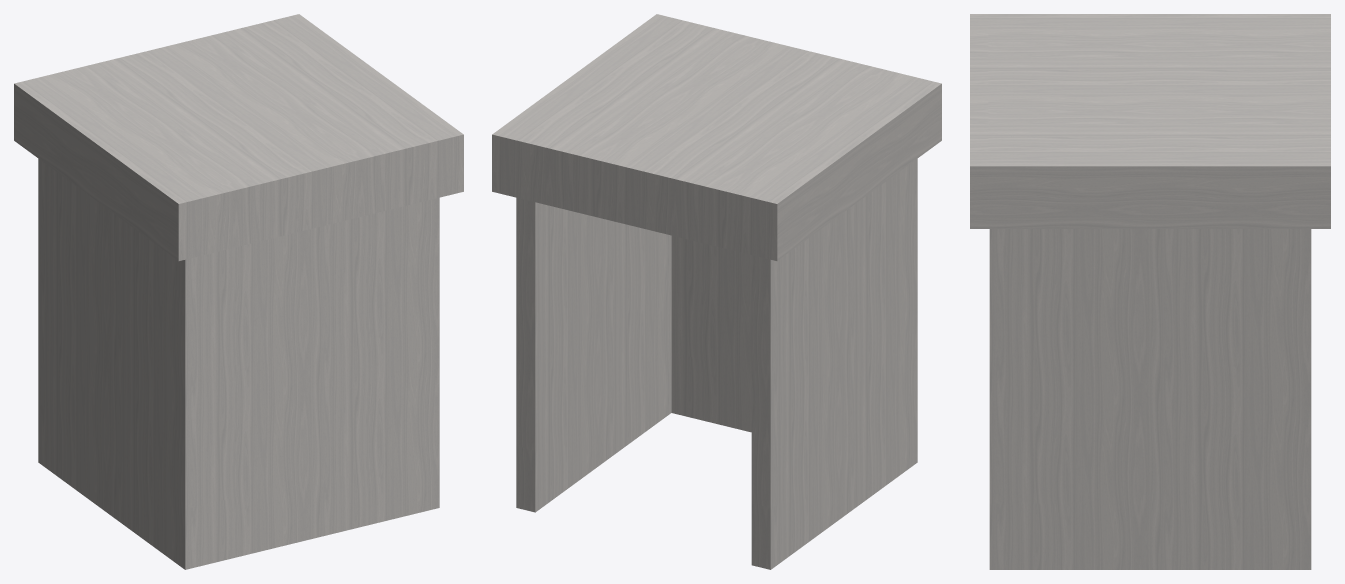
Rendered from Chapel_MiniStand.fbx.
3 views of the same model, side by side, from view 1: azimuth 30°, elevation 25°; view 2: azimuth 150°, elevation 25°; view 3: azimuth 270°, elevation 25° (orthographic). The views are drawn at different scales.
Visible parts, largest first — view 1: MiniStand; view 2: MiniStand; view 3: MiniStand.
Part boxes in pixels (bbox=[...]): MiniStand: bbox=[14, 14, 463, 569]; MiniStand: bbox=[492, 14, 941, 569]; MiniStand: bbox=[970, 14, 1330, 569].
Size of the model in its own units: 2.8 by 3.52 by 2.8.
Materials: 1 (1 with a texture image).
